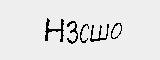З: (65, 19, 81, 44)
Н: (40, 16, 66, 44)
О: (108, 21, 124, 39)
С: (76, 24, 92, 44)
Ш: (89, 22, 110, 44)
